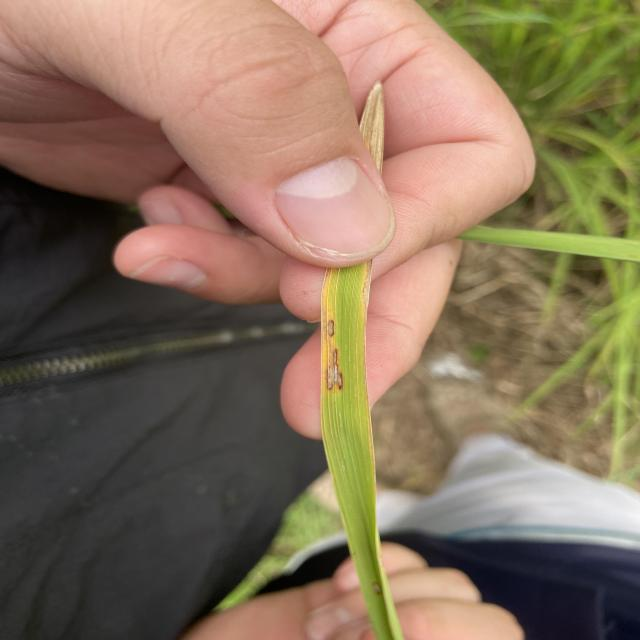Dao on: (326, 348, 342, 390), (328, 320, 334, 337)
